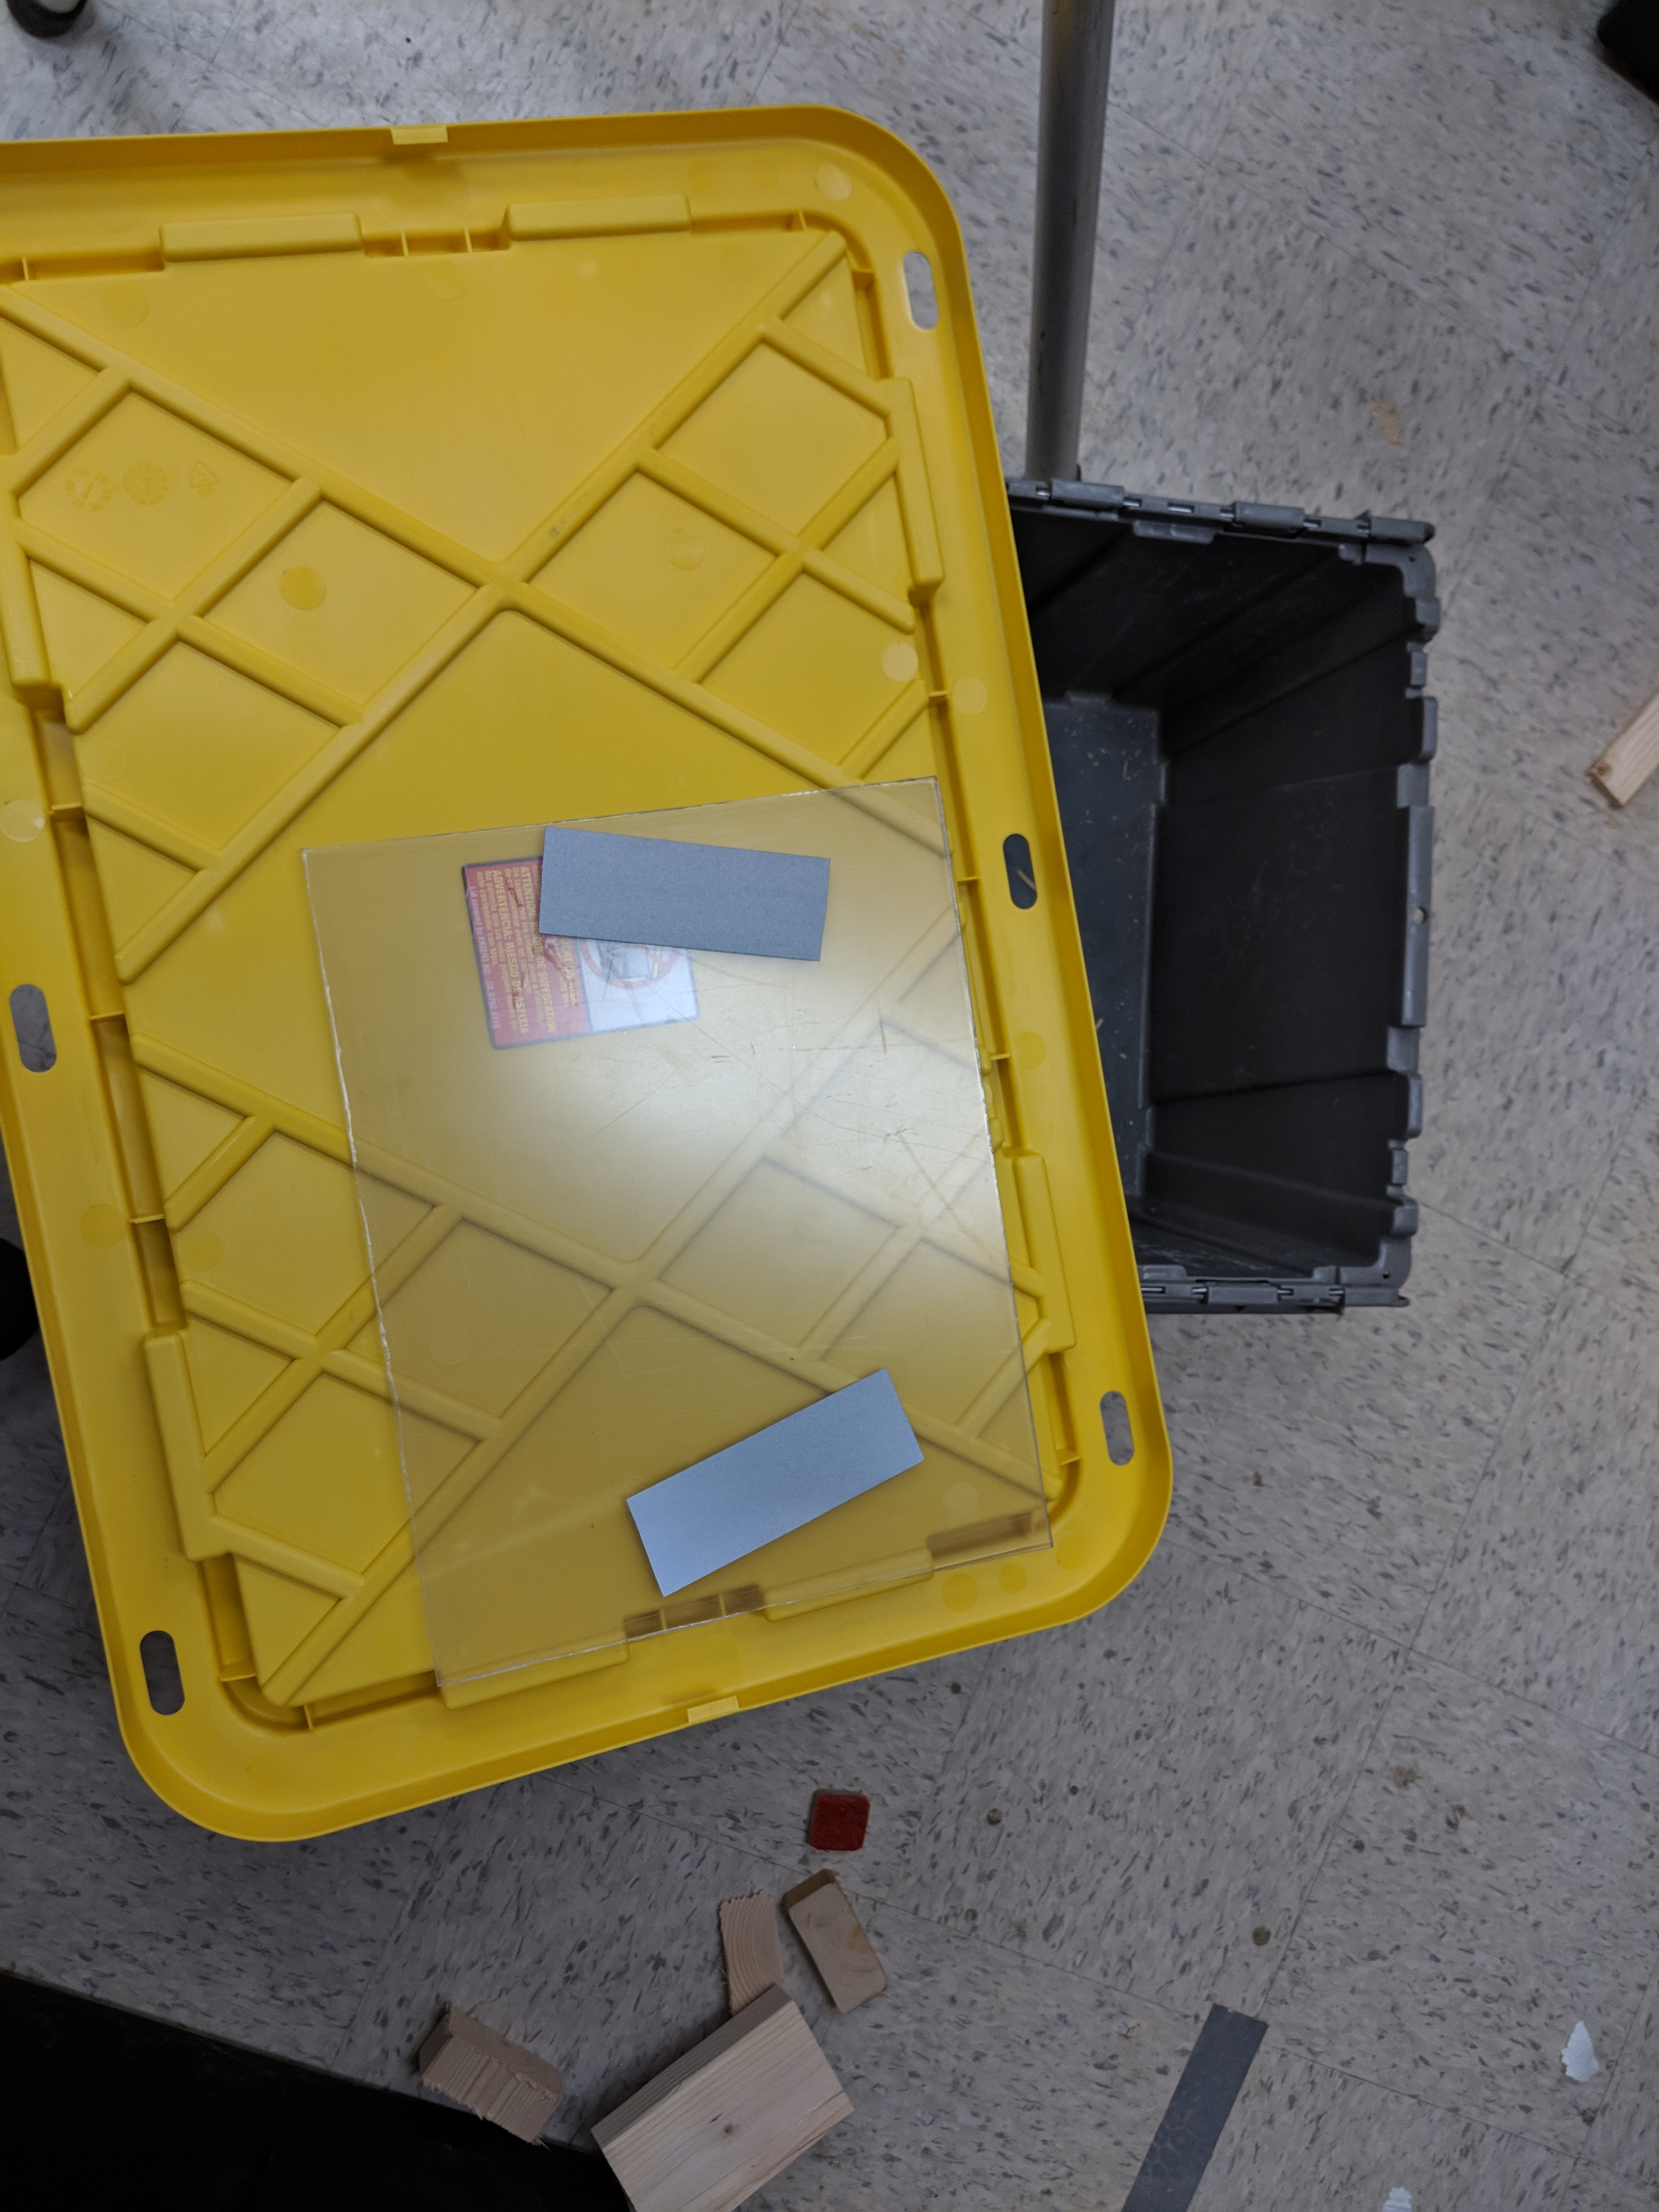vision_target: (523, 819, 950, 1622)
